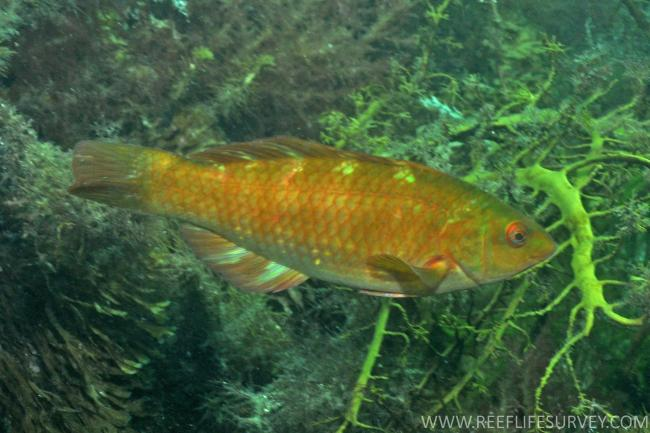fish: (67, 135, 559, 296)
